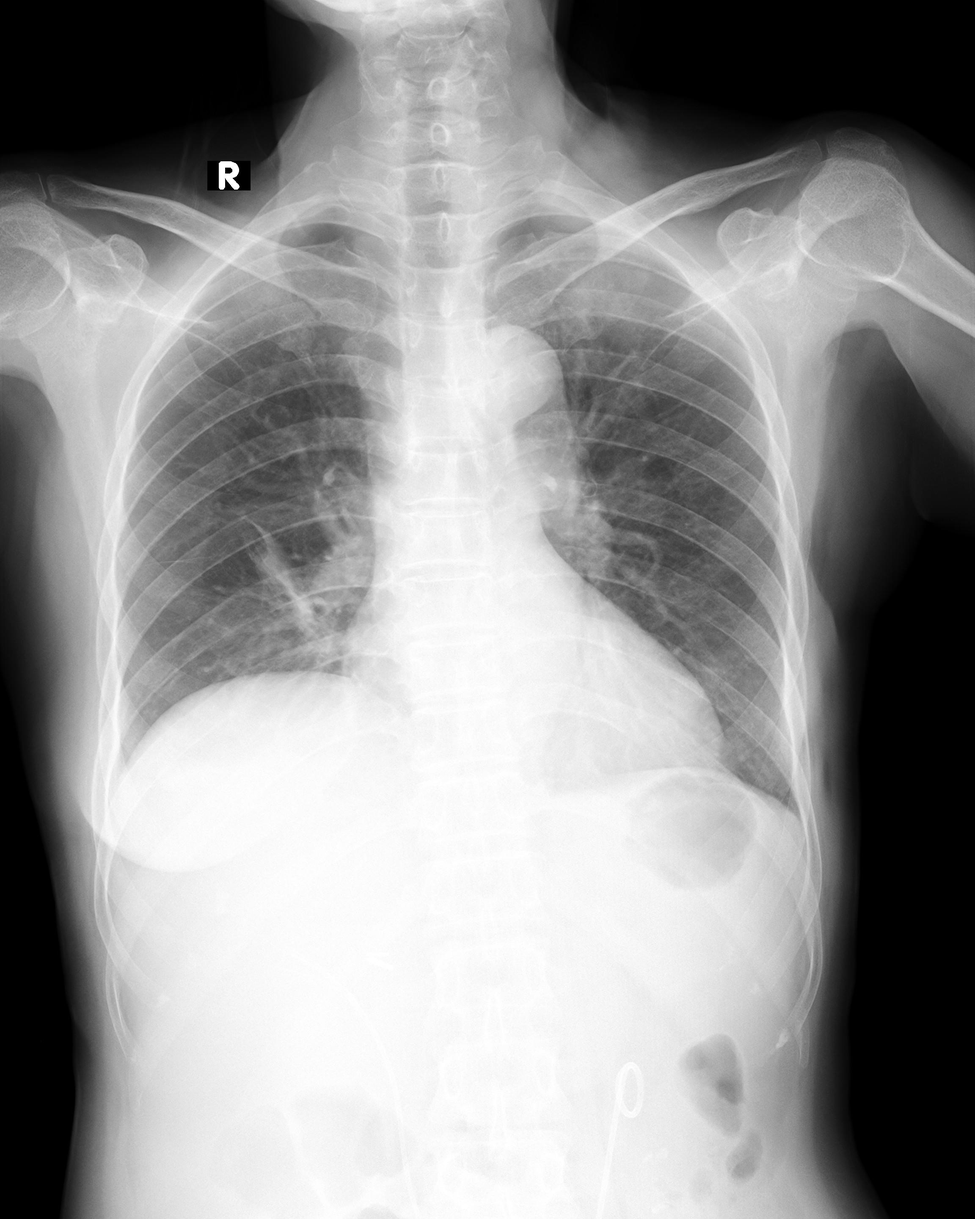Aortic enlargement: (466, 332, 574, 474)
Cardiomegaly: (341, 645, 725, 766)
Pulmonary fibrosis: (241, 515, 316, 642)
